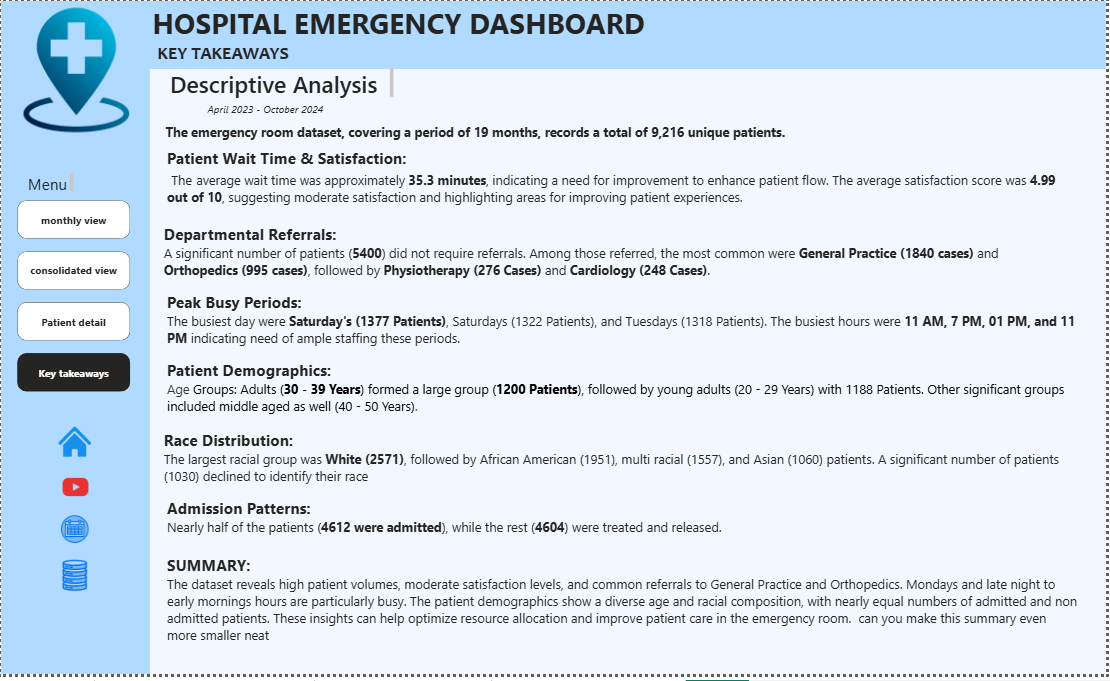

Layout of this report page (visuals, bound fields, positions):
{"tool":"powerbi","page":{"name":"Key takeaways","canvas":[2297,1400],"ordinal":3},"visuals":[{"type":"shape","box":[0,0,310,1401.6],"z":0},{"type":"shape","box":[310,0,1987.8,141.5],"z":1000},{"type":"textbox","box":[310,0,1057.9,97.7],"z":2000},{"type":"textbox","box":[320,80,323.3,60],"z":3000},{"type":"shape","box":[1388.3,1548.3,600,270],"z":4000},{"type":"textbox","box":[346,136,474,72],"z":5000},{"type":"textbox","box":[424.5,205.5,269.5,43.8],"z":6000},{"type":"textbox","box":[336.9,249.3,1907,50.5],"z":7000},{"type":"textbox","box":[340,300,1903.3,156.7],"z":8000},{"type":"textbox","box":[333.3,456.7,1906.7,143.3],"z":9000},{"type":"textbox","box":[340,600,1910,173.3],"z":10000},{"type":"textbox","box":[340,740,1910,146.7],"z":11000},{"type":"textbox","box":[333.3,886.7,1913.3,140],"z":12000},{"type":"textbox","box":[340.3,1027.6,1910.3,117.9],"z":13000},{"type":"textbox","box":[340.3,1145.5,1910.3,232.5],"z":14000},{"type":"pageNavigator","box":[35,415,235,400],"z":15000},{"type":"image","box":[91,865.9,124.7,101.1],"z":16000},{"type":"image","box":[128,963.6,53.9,94.3],"z":17000},{"type":"image","box":[124.7,1057.9,57.3,80.9],"z":18000},{"type":"image","box":[117.9,1138.8,70.8,111.2],"z":19000},{"type":"textbox","box":[50,355,105,50],"z":20000},{"type":"image","box":[6.7,13.3,300,260],"z":21000}]}

Visuals, with their boxes on the page's 2297x1400 design canvas (x1, y1, x2, y2). These are canvas units, not pixel positions in the 1110x681 screenshot, which may show the page scaled, cropped or inside an application window:
shape: Rect(0, 0, 310, 1402)
shape: Rect(310, 0, 2298, 142)
textbox: Rect(310, 0, 1368, 98)
textbox: Rect(320, 80, 643, 140)
shape: Rect(1388, 1548, 1988, 1818)
textbox: Rect(346, 136, 820, 208)
textbox: Rect(424, 206, 694, 249)
textbox: Rect(337, 249, 2244, 300)
textbox: Rect(340, 300, 2243, 457)
textbox: Rect(333, 457, 2240, 600)
textbox: Rect(340, 600, 2250, 773)
textbox: Rect(340, 740, 2250, 887)
textbox: Rect(333, 887, 2247, 1027)
textbox: Rect(340, 1028, 2251, 1146)
textbox: Rect(340, 1146, 2251, 1378)
pageNavigator: Rect(35, 415, 270, 815)
image: Rect(91, 866, 216, 967)
image: Rect(128, 964, 182, 1058)
image: Rect(125, 1058, 182, 1139)
image: Rect(118, 1139, 189, 1250)
textbox: Rect(50, 355, 155, 405)
image: Rect(7, 13, 307, 273)
